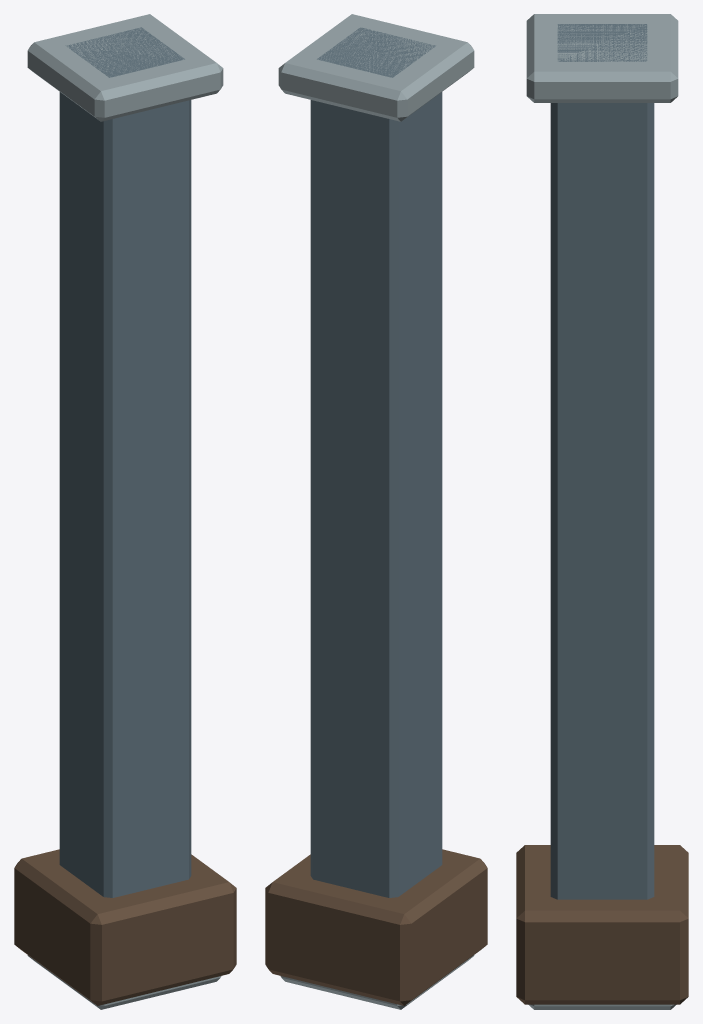
Rendered from architecture-village-pillar.lod0.glb.
3 renders of one model, left to right at view 1: azimuth 30°, elevation 25°; view 2: azimuth 150°, elevation 25°; view 3: azimuth 270°, elevation 25°, orthographic. The views are drawn at different scales.
Parts seen in each view (by area): view 1: architecture-village-pillar__body; view 2: architecture-village-pillar__body; view 3: architecture-village-pillar__body.
Part boxes in pixels (<box>): architecture-village-pillar__body: <box>14,14,236,1009</box>; architecture-village-pillar__body: <box>265,14,487,1009</box>; architecture-village-pillar__body: <box>516,14,688,1009</box>.
Bounding box in the file's own units: 0.5 × 3 × 0.5.
